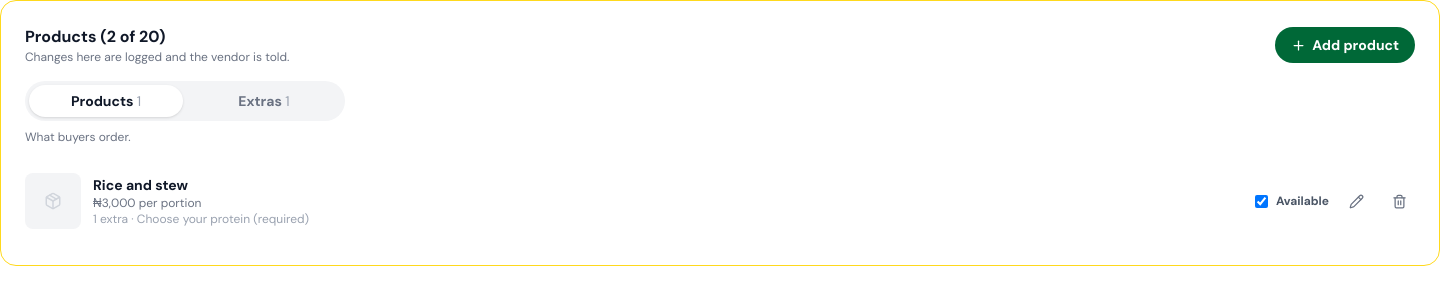
Test: Products › lists dishes with what they come with, then the extras
expect the text "1 extra · Choose your protein (required)" is shown: met, box left=93, top=211, right=309, bottom=227
expect the text "Water" is not shown: met
Click the tab "Extras 1". click: (264, 101)
box: left=187, top=85, right=341, bottom=117
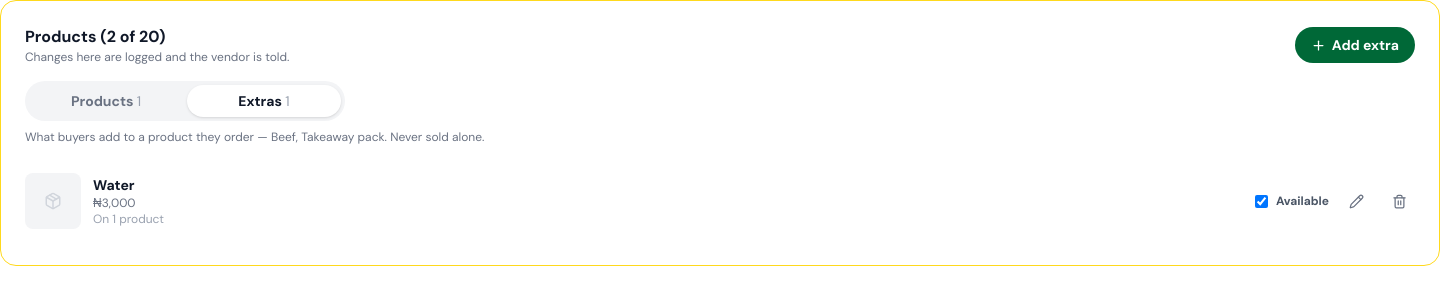
expect the text "On 1 product" is shown: met, box left=93, top=211, right=164, bottom=227
expect the button "Add extra" is shown: met, box left=1295, top=27, right=1415, bottom=63
